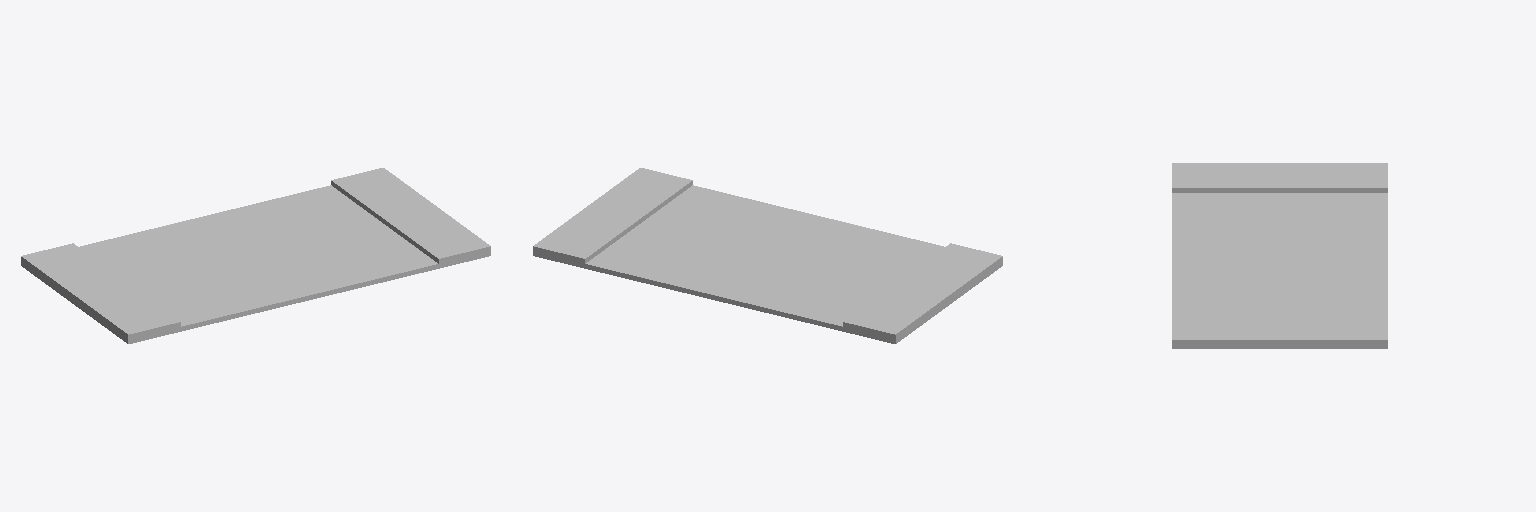
Rendered from road1.obj.
3 renders of one model, left to right at view 1: azimuth 30°, elevation 25°; view 2: azimuth 150°, elevation 25°; view 3: azimuth 270°, elevation 25°, orthographic.
Parts seen in each view (by area): view 1: road1_Plane.015; view 2: road1_Plane.015; view 3: road1_Plane.015.
Boxes of the visible parts, <box> form: road1_Plane.015: <box>21,168,490,343</box>; road1_Plane.015: <box>533,168,1002,343</box>; road1_Plane.015: <box>1172,163,1387,348</box>.
Bounding box in the file's own units: 9.73 × 0.25 × 5.